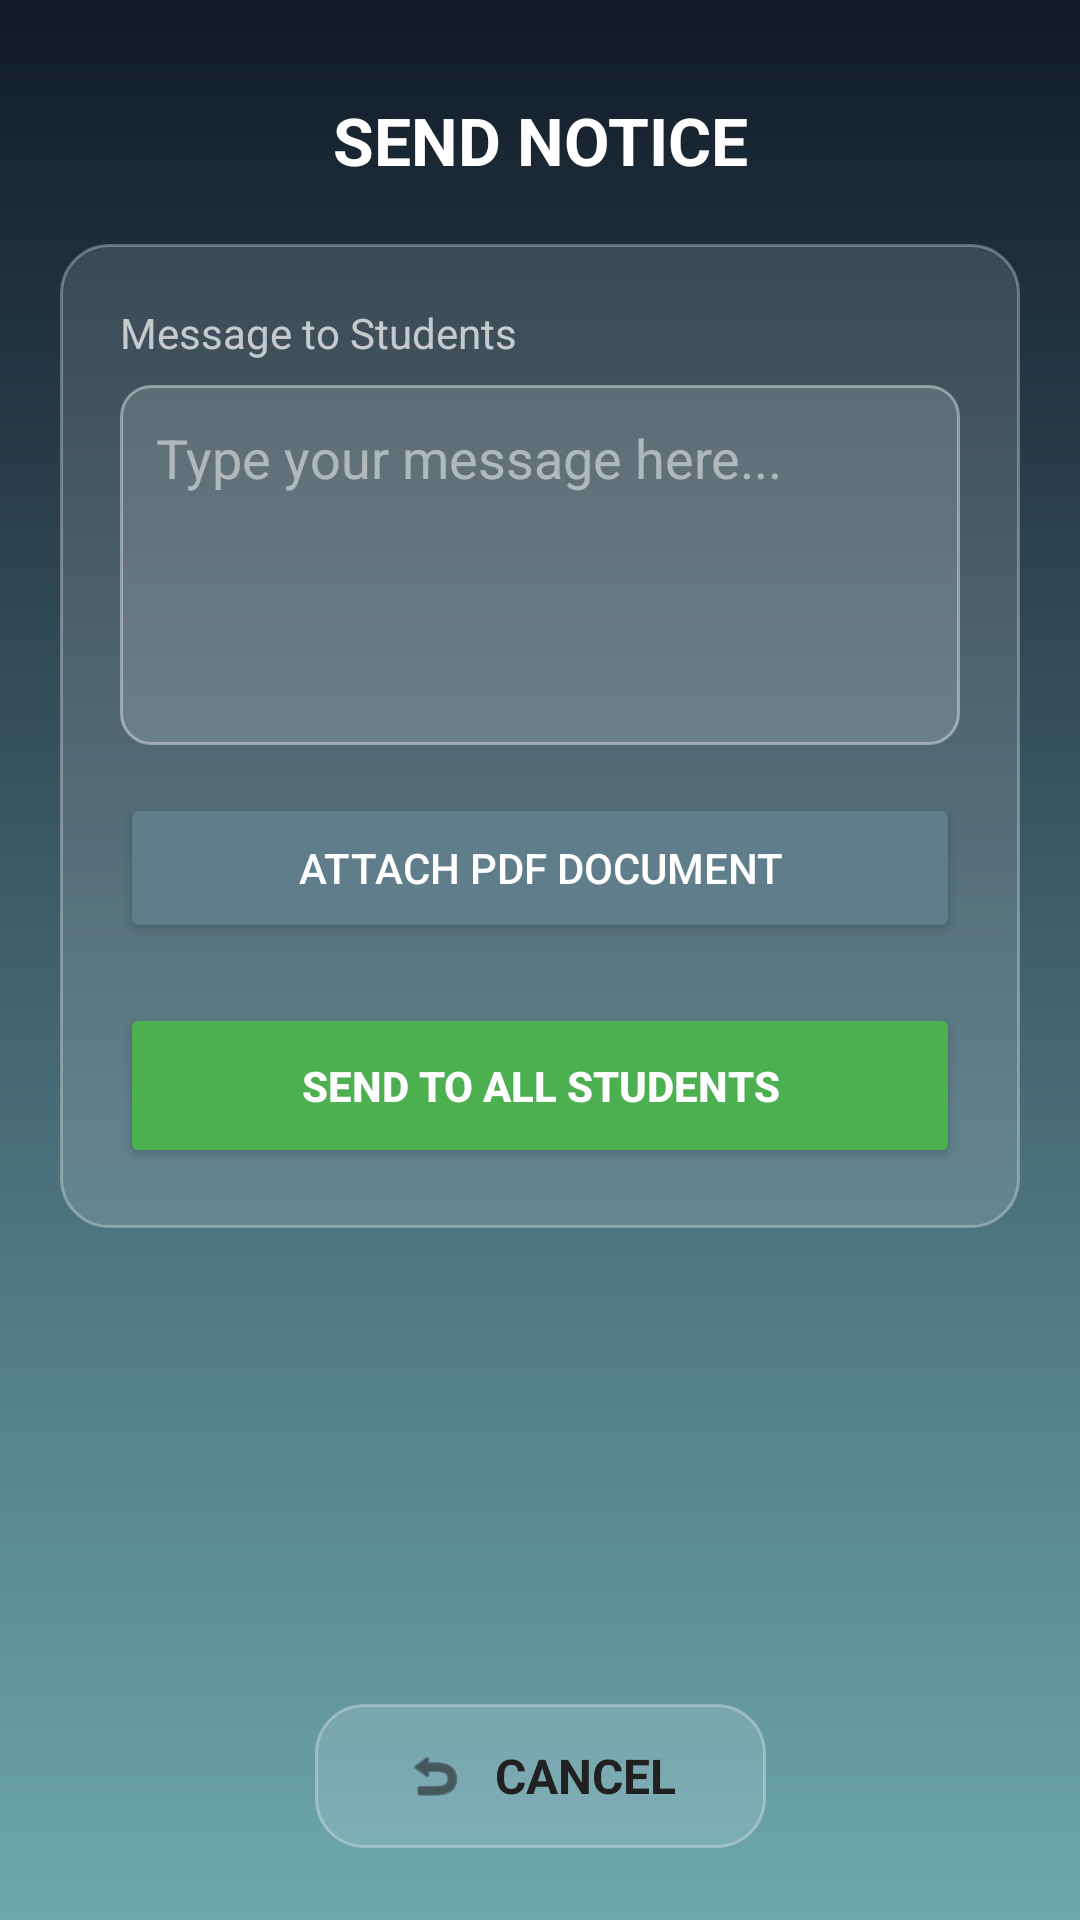

Where to tap for icons on this 1080x1920 app screen, as (x,y):
Back: (435,1776)
